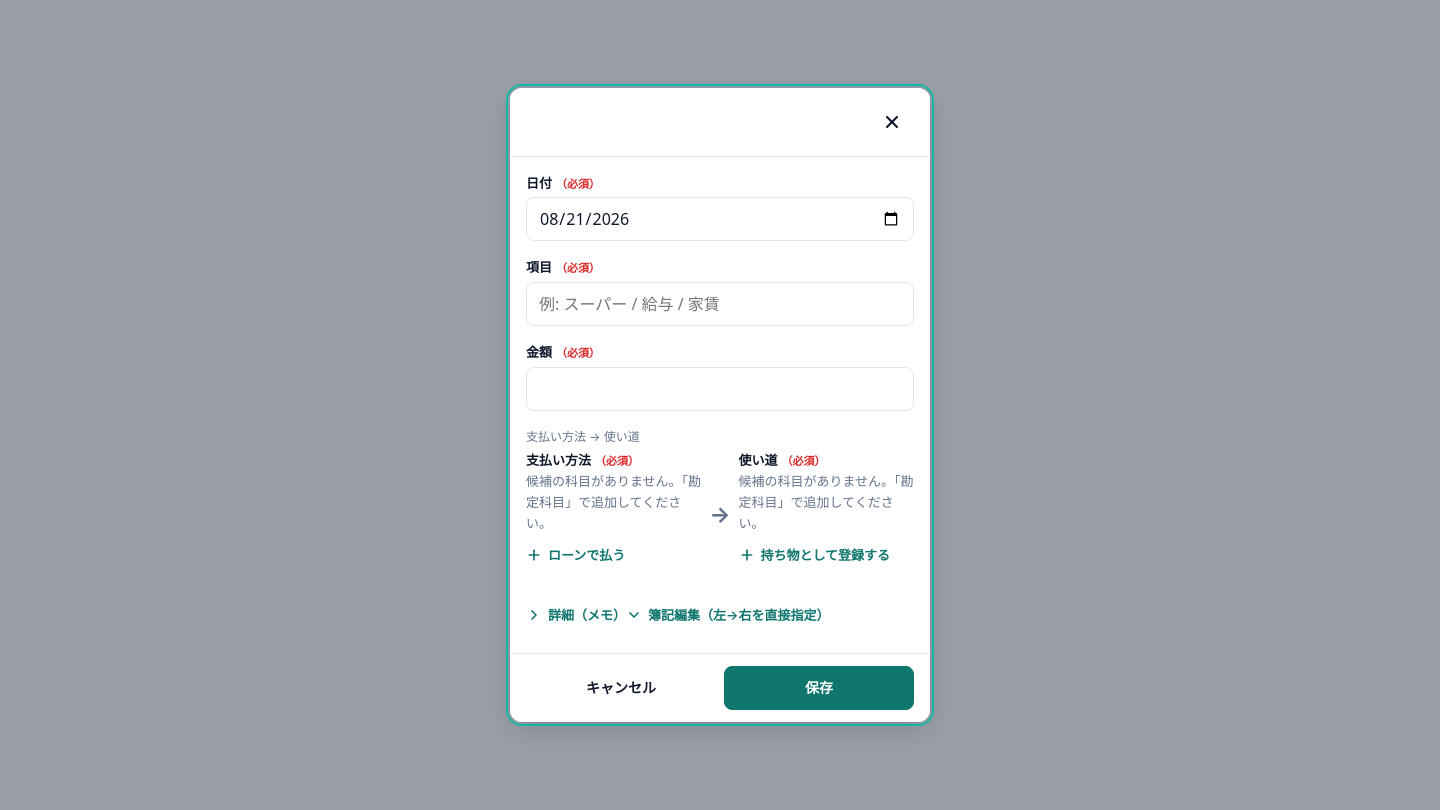
Test case: 継続コスト資産の費用の行き先候補 › 支出入力の「継続コスト資産として持つ」で資産・負債・純資産・収入・支出を行き先に選べる
Click the button "持ち物として登録する" at x=814, y=555, box [738,533,890,577]
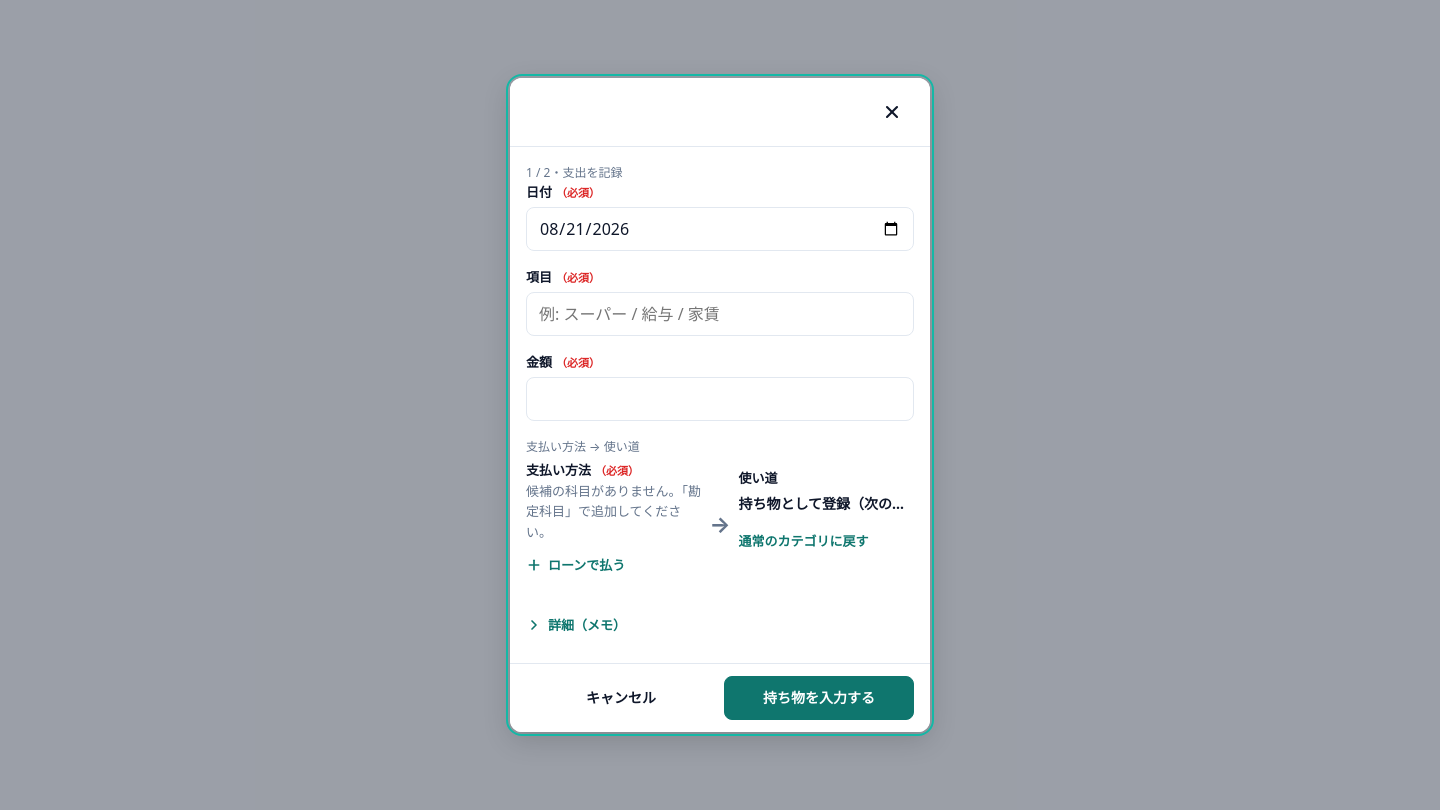
# v13.7 I3: 支出の 1 ページ目は選択だけ。持ち物の入力は次のページ（項目・金額を埋めて進む）。
Type "継続コストの行き先" into the field labelled "項目（必須）" at x=720, y=314, box [526,292,914,336]
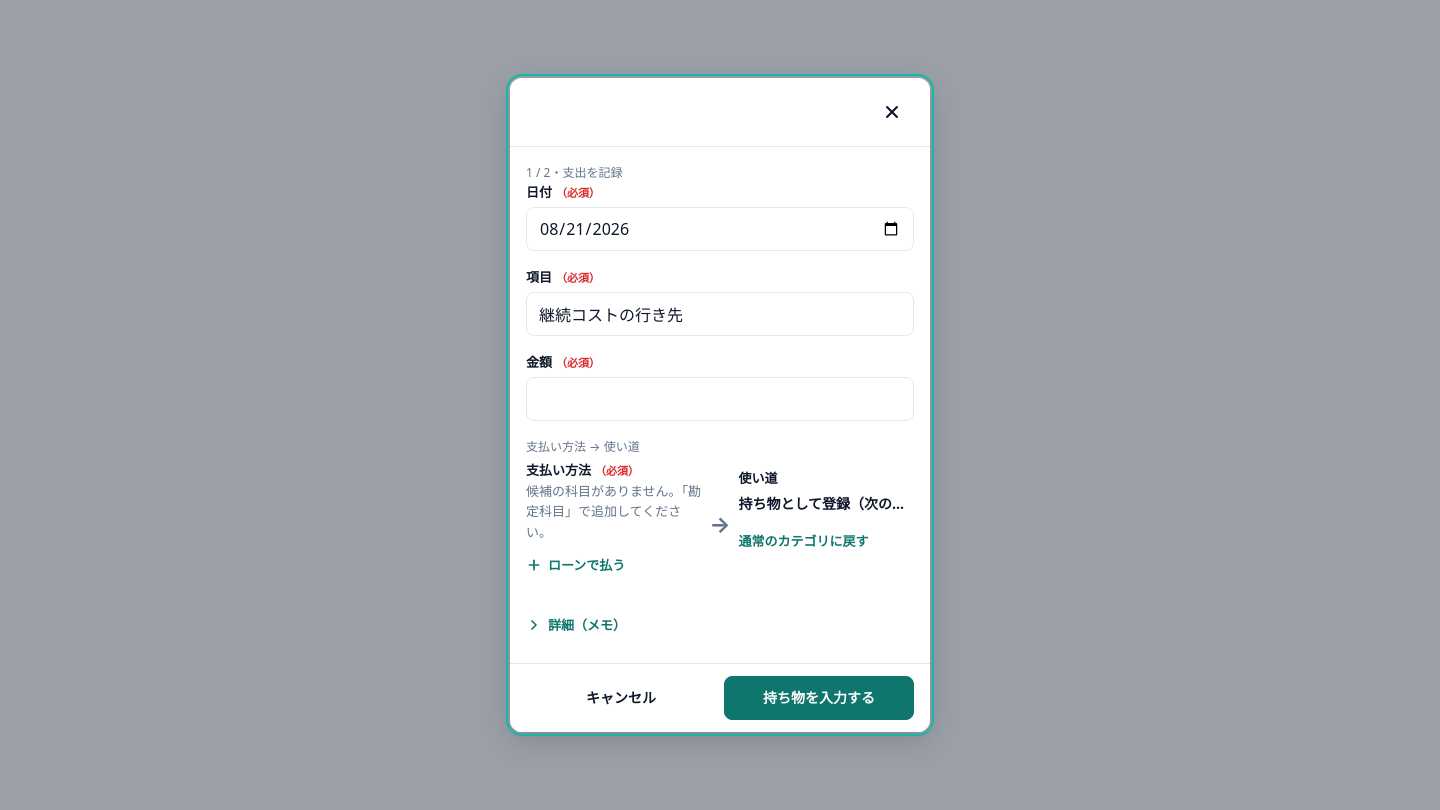
Type "1000" into the field labelled "金額（必須）" at x=720, y=399, box [526,377,914,421]
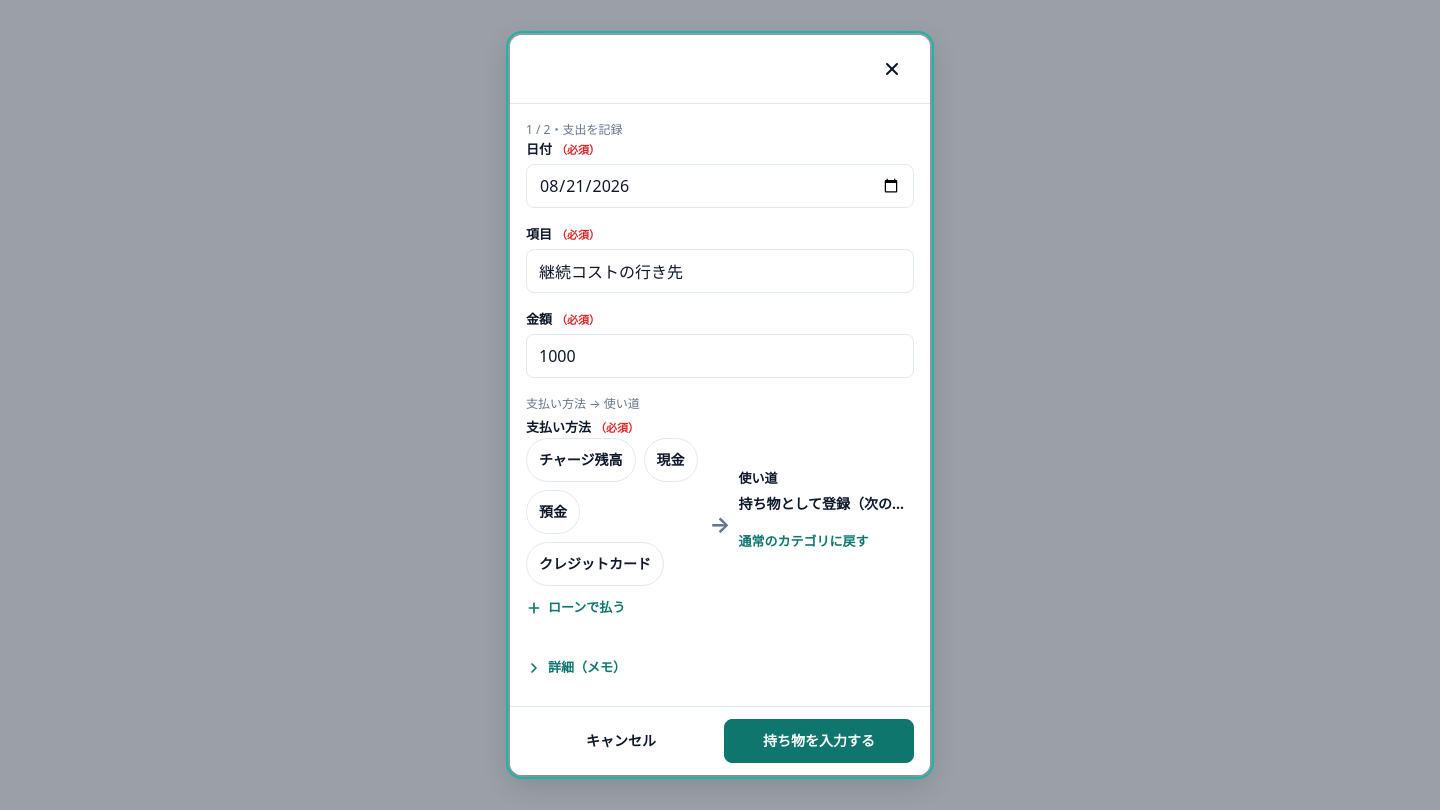
Click the radio button labelled "チャージ残高" at x=581, y=460, box [526,438,636,482]
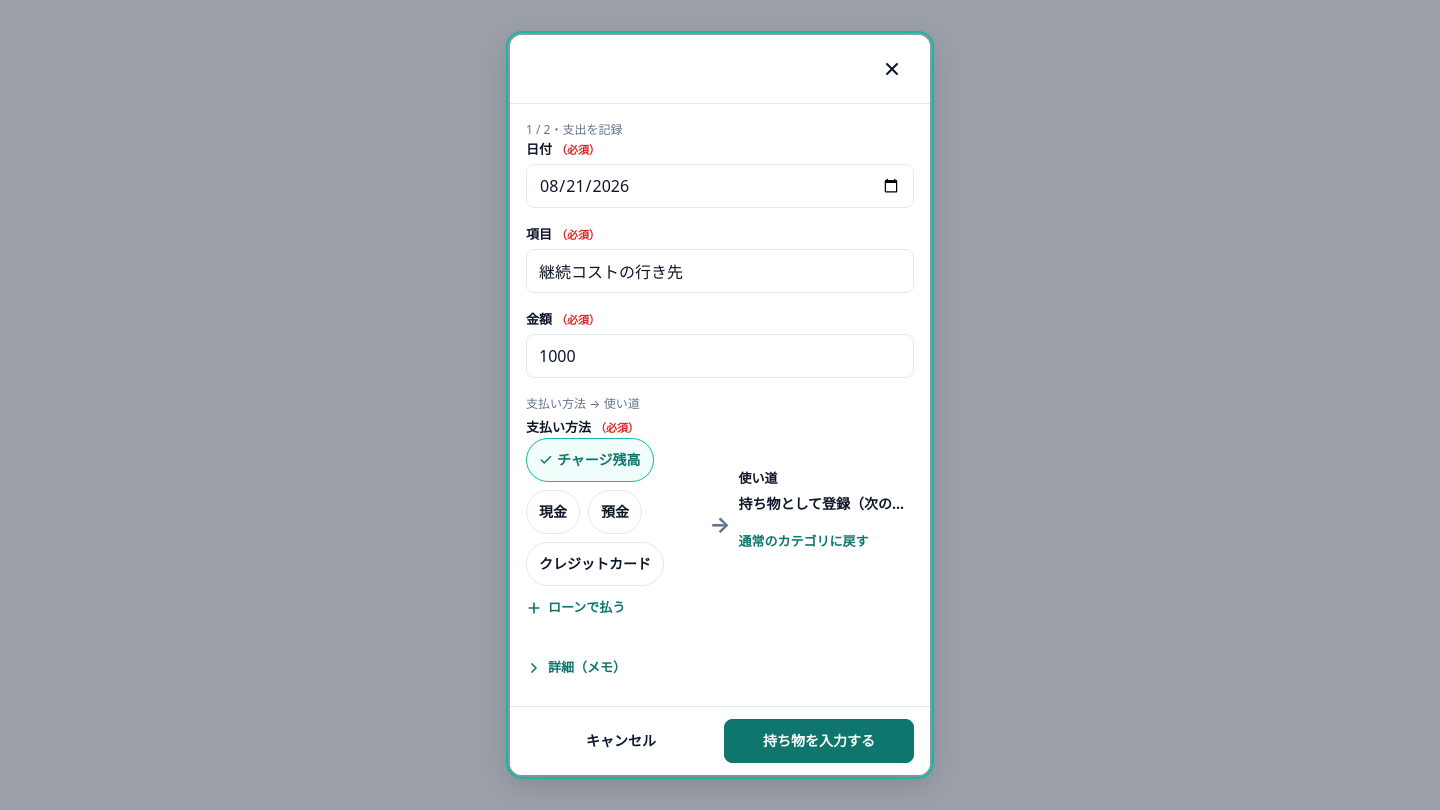
Click the button "持ち物を入力する" at x=819, y=741, box [724,719,914,763]
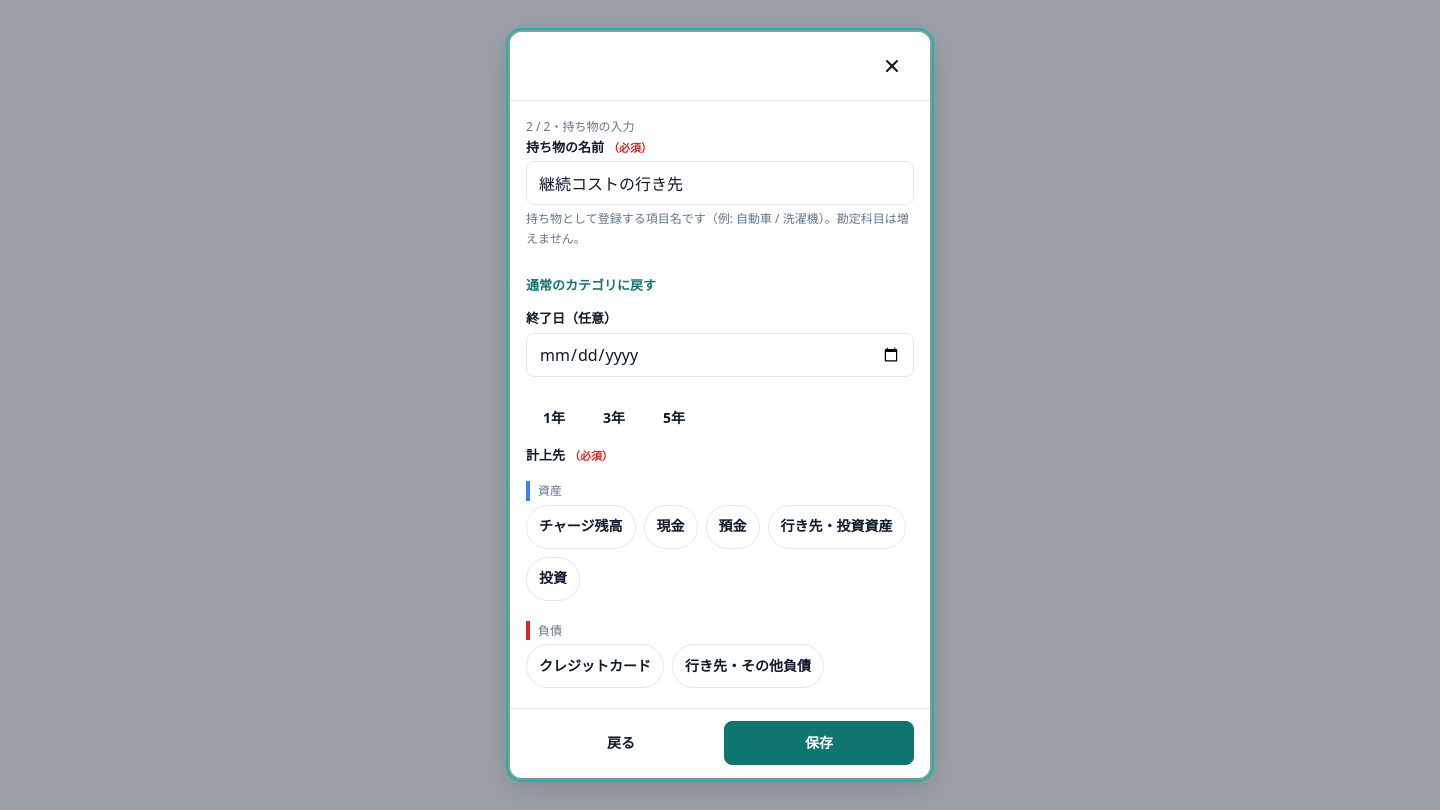
Result: the text "計上先" is shown at [526,446,565,464]
Result: the radio button labelled "現金" is shown at [644,504,698,548]
Result: the radio button labelled "行き先・投資資産" is shown at [768,504,906,548]
